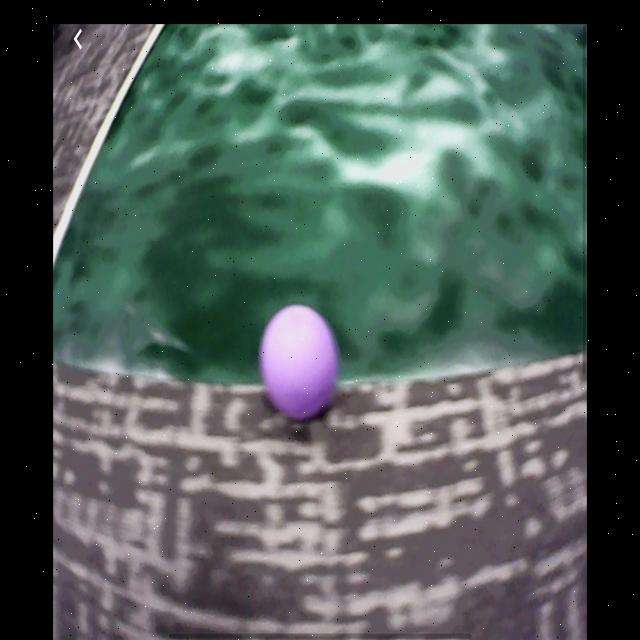ball: (263, 303, 337, 419)
